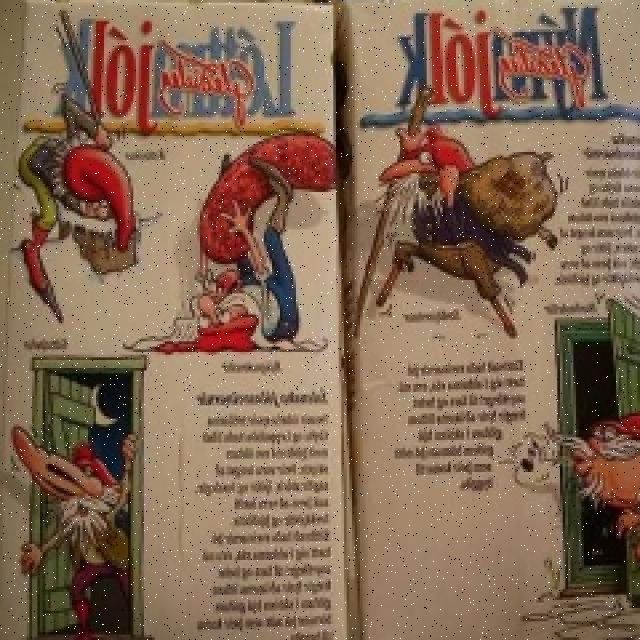box: (0, 0, 347, 640), (341, 0, 640, 640)
